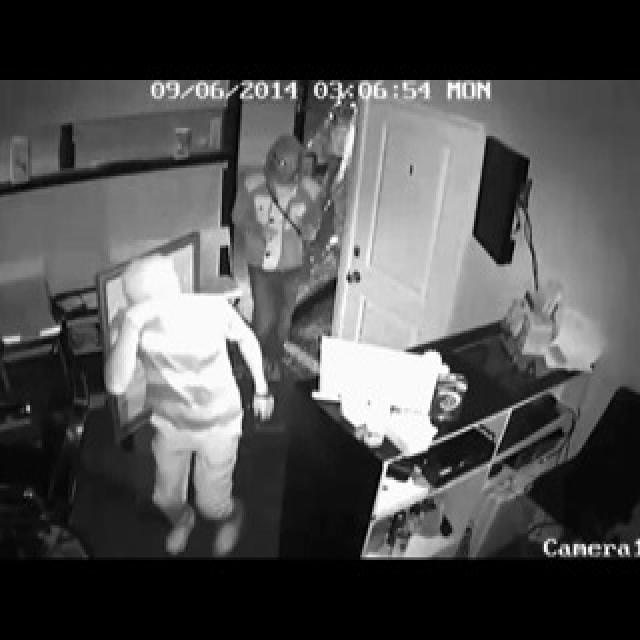thief: (100, 248, 261, 546), (231, 134, 318, 376)
